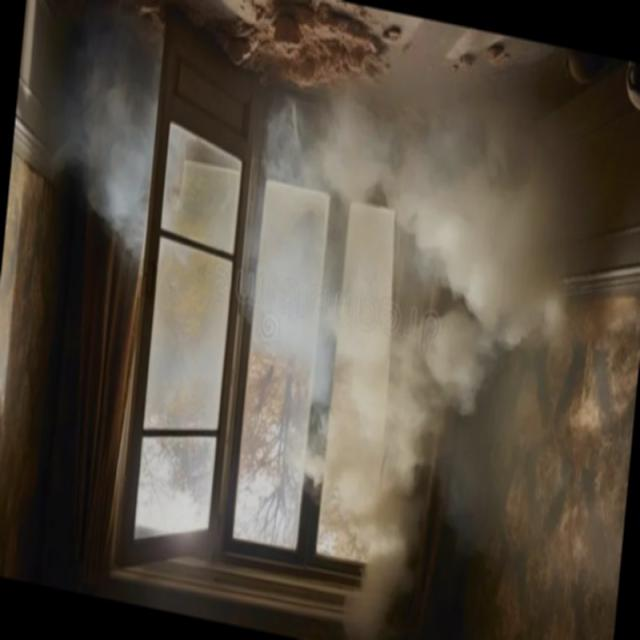smoke: (223, 70, 595, 518)
